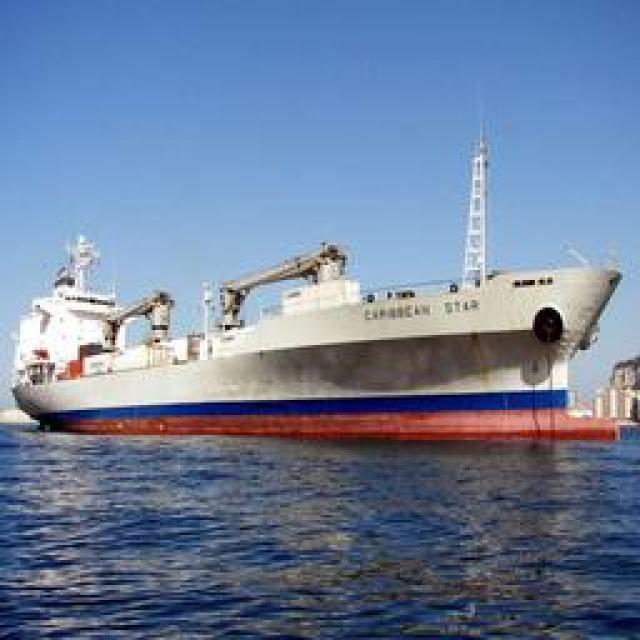Ship: (16, 186, 629, 446)
